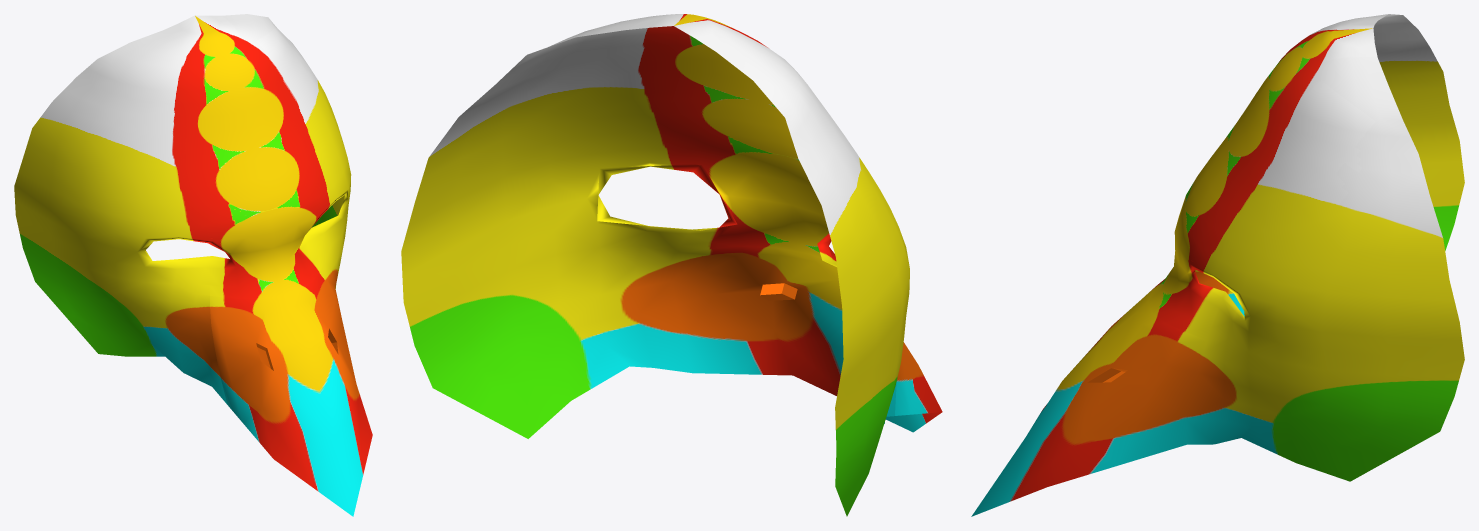
File: DashMask_Mask.fbx
3 views of the same model, side by side, from view 1: azimuth 30°, elevation 25°; view 2: azimuth 150°, elevation 25°; view 3: azimuth 270°, elevation 25° (orthographic). The views are drawn at different scales.
Parts seen in each view (by area): view 1: pasted__pSphere1; view 2: pasted__pSphere1; view 3: pasted__pSphere1.
Boxes of the visible parts, x1=… form: pasted__pSphere1: x1=14, y1=14, x2=372, y2=516; pasted__pSphere1: x1=401, y1=14, x2=942, y2=516; pasted__pSphere1: x1=971, y1=14, x2=1464, y2=516.
Size of the model in its own units: 4.86 by 6.12 by 5.6.
